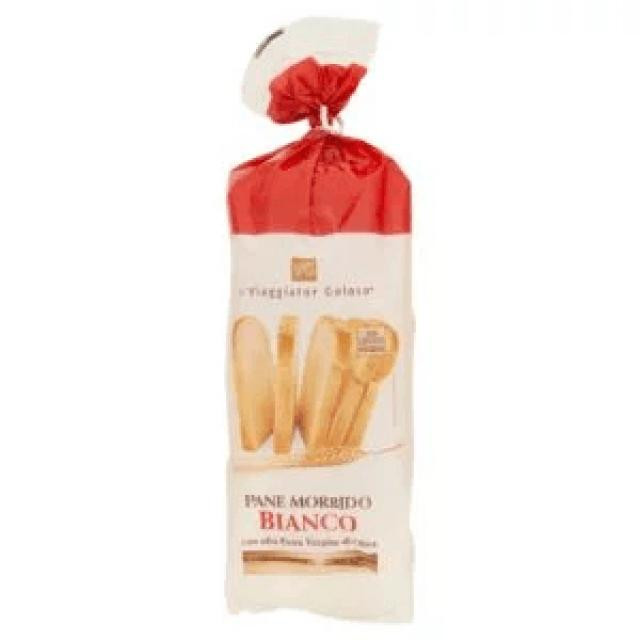bread: (226, 23, 414, 625)
